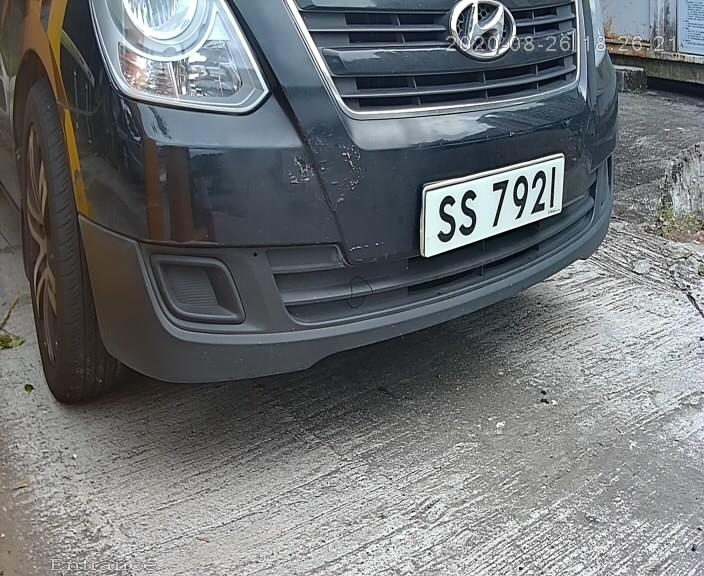License Plate: (412, 147, 573, 258)
